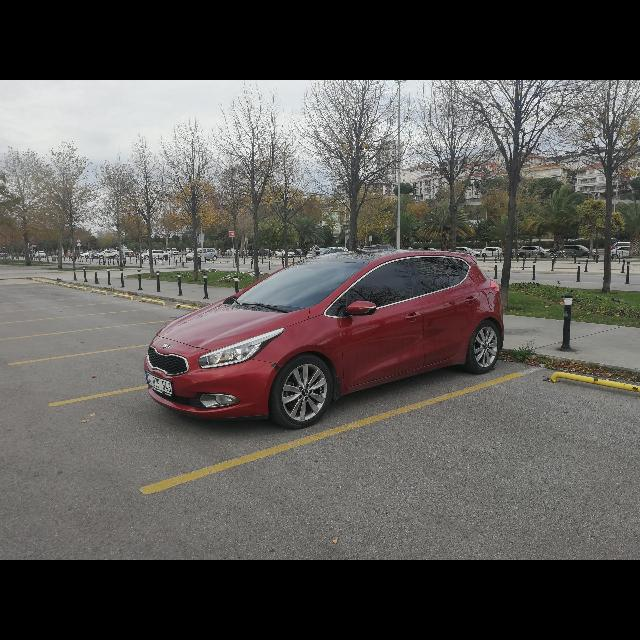Plaka: (147, 372, 171, 394)
